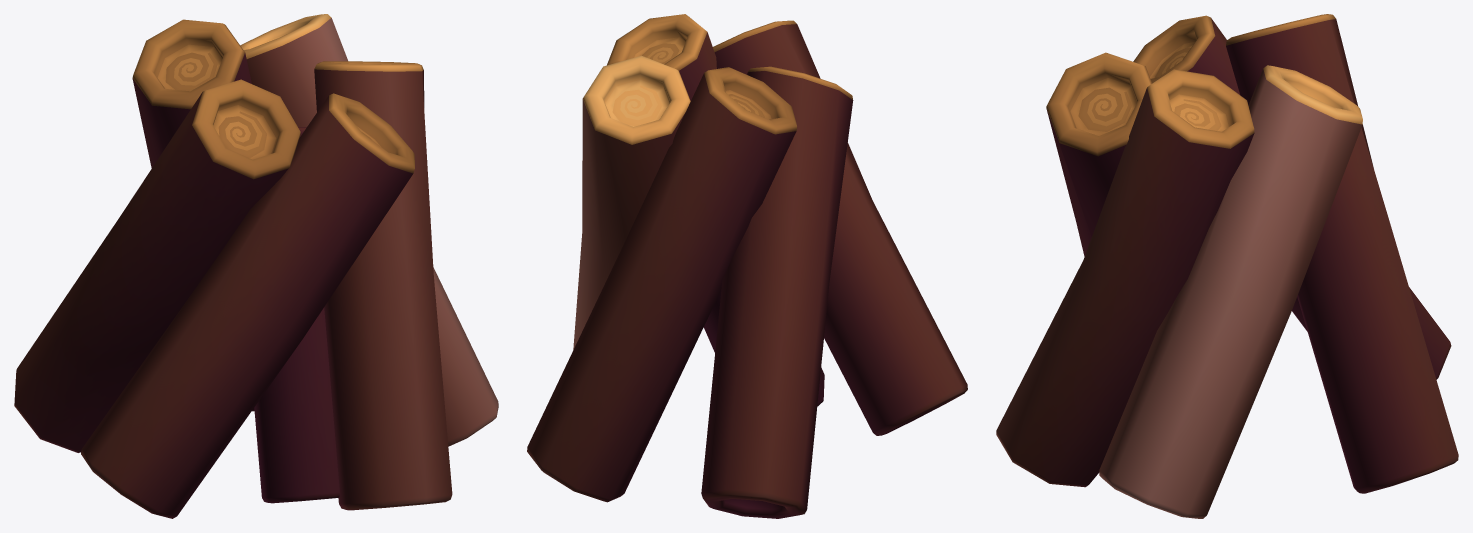
Rendered from SM_campfire_002.fbx.
3 views of the same model, side by side, from view 1: azimuth 30°, elevation 25°; view 2: azimuth 150°, elevation 25°; view 3: azimuth 270°, elevation 25° (orthographic). The views are drawn at different scales.
Parts seen in each view (by area): view 1: SM_campfire_002; view 2: SM_campfire_002; view 3: SM_campfire_002.
Part boxes in pixels (x1=…): SM_campfire_002: x1=14, y1=14, x2=498, y2=518; SM_campfire_002: x1=527, y1=14, x2=967, y2=518; SM_campfire_002: x1=996, y1=14, x2=1458, y2=518.
Bounding box in the file's own units: 79.86 × 81.55 × 78.77.
